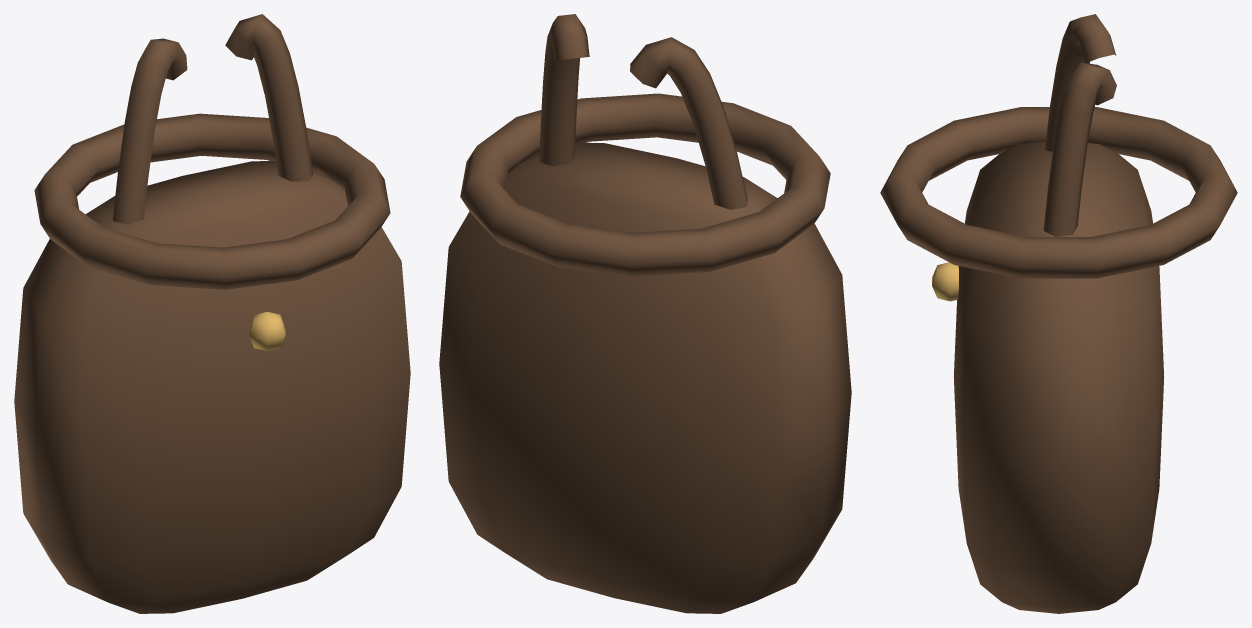
Rendered from handbag_f.glb.
3 views of the same model, side by side, from view 1: azimuth 30°, elevation 25°; view 2: azimuth 150°, elevation 25°; view 3: azimuth 270°, elevation 25° (orthographic). The views are drawn at different scales.
Parts seen in each view (by area): view 1: hair; view 2: hair; view 3: hair.
Part boxes in pixels (<box>): hair: <box>14,14,410,613</box>; hair: <box>439,14,851,613</box>; hair: <box>880,14,1237,613</box>.
Size of the model in its own units: 0.116 by 0.1697 by 0.102.
